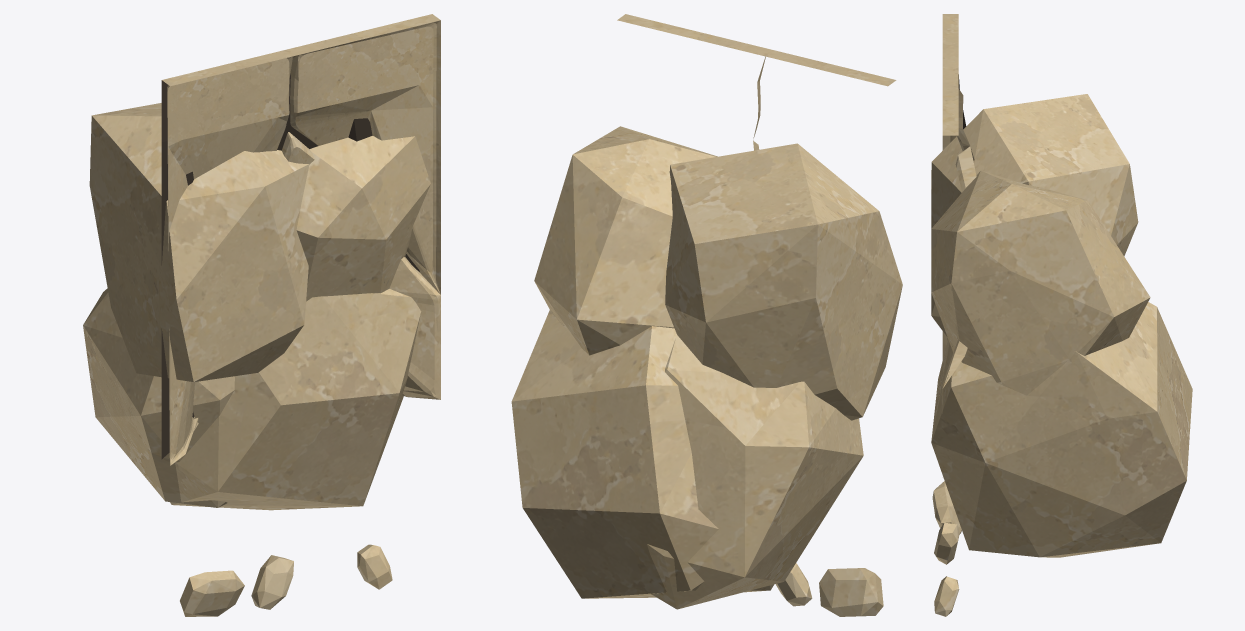
The model's file is ground_bottom_square_edge_09.glb.
3 renders of one model, left to right at view 1: azimuth 30°, elevation 25°; view 2: azimuth 150°, elevation 25°; view 3: azimuth 270°, elevation 25°, orthographic. The views are drawn at different scales.
Parts seen in each view (by area): view 1: GroundBottomSquareEdge09_Body; view 2: GroundBottomSquareEdge09_Body; view 3: GroundBottomSquareEdge09_Body.
Boxes of the visible parts, x1,y1,x2,y2 form: GroundBottomSquareEdge09_Body: (83,14,440,616); GroundBottomSquareEdge09_Body: (511,14,902,616); GroundBottomSquareEdge09_Body: (931,14,1192,616).
Size of the model in its own units: 1 by 1.95 by 1.04.
5 materials, 4 textured.
